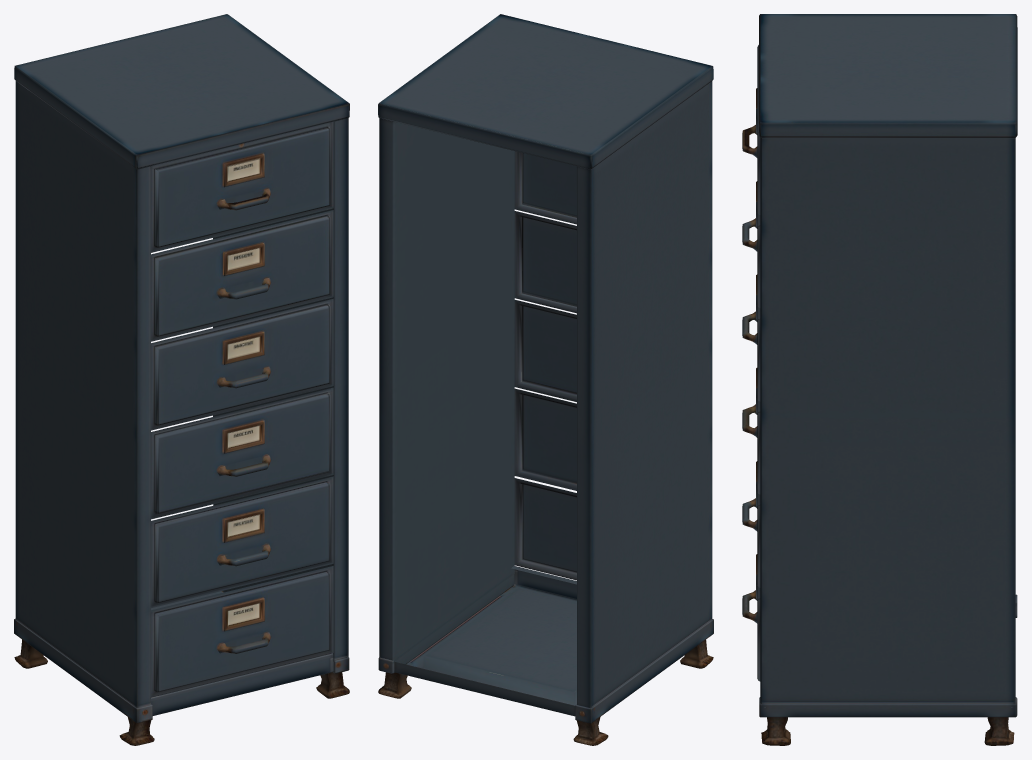
File: Filing+Cabinet.glb
3 renders of one model, left to right at view 1: azimuth 30°, elevation 25°; view 2: azimuth 150°, elevation 25°; view 3: azimuth 270°, elevation 25°, orthographic. The views are drawn at different scales.
Visible parts, largest first — view 1: tripo_node_430ca0a1-c0b5-46b1-90a1-3b919b533edc; view 2: tripo_node_430ca0a1-c0b5-46b1-90a1-3b919b533edc; view 3: tripo_node_430ca0a1-c0b5-46b1-90a1-3b919b533edc.
Boxes of the visible parts, x1,y1,x2,y2 form: tripo_node_430ca0a1-c0b5-46b1-90a1-3b919b533edc: (14, 14, 349, 745); tripo_node_430ca0a1-c0b5-46b1-90a1-3b919b533edc: (378, 14, 713, 745); tripo_node_430ca0a1-c0b5-46b1-90a1-3b919b533edc: (742, 14, 1017, 745).
Size of the model in its own units: 0.3901 by 0.9995 by 0.4009.
1 material, 1 textured.
